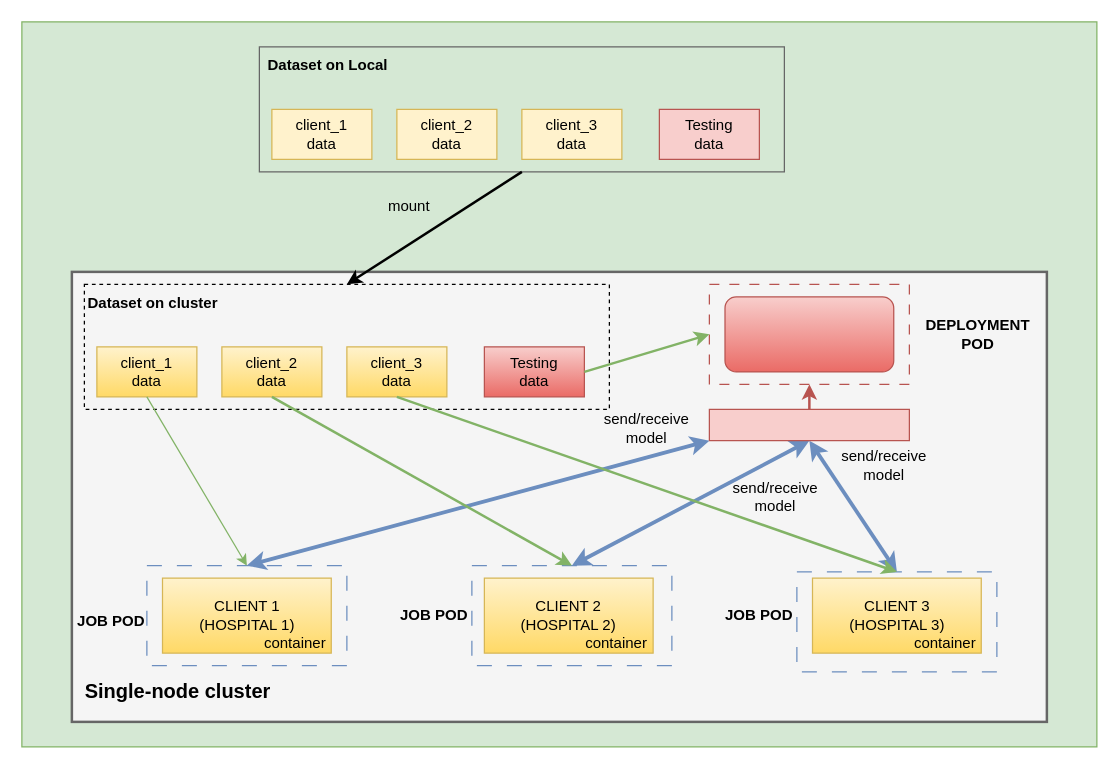
This 1119x769 diagram has some shape labels left out. Here are the shapes that lost their labels. From the top down, the box of each, then its label:
(724, 296, 894, 372): SERVER container
(708, 408, 909, 441): server:8080
